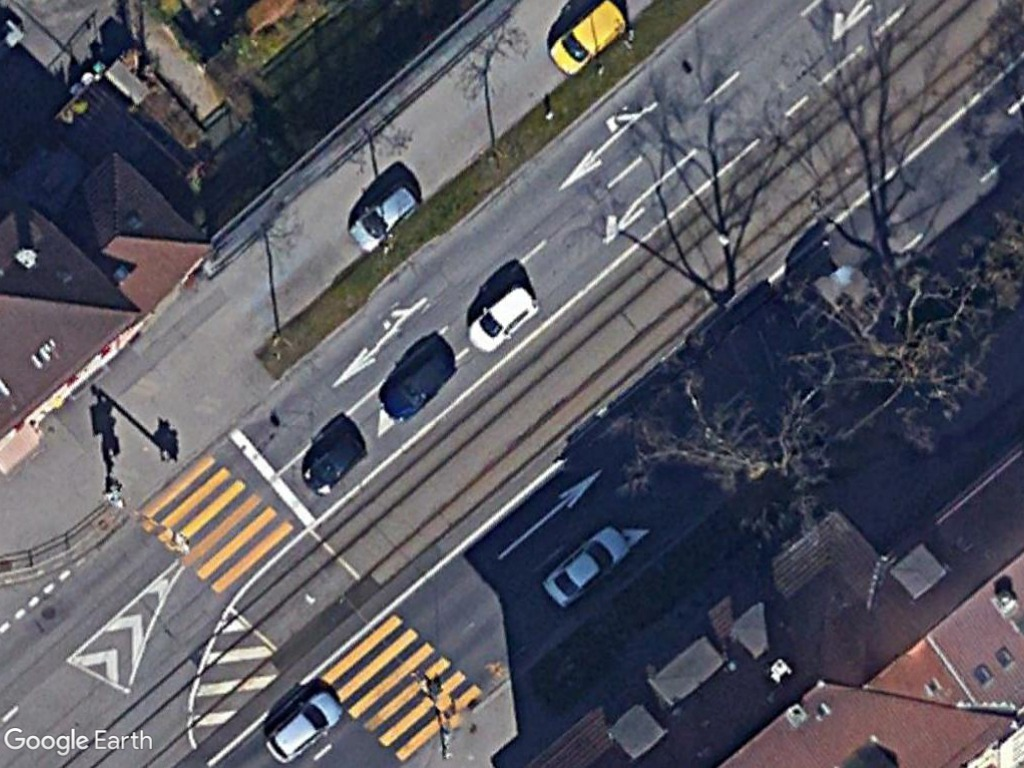car: (542, 522, 635, 610), (261, 688, 349, 764), (346, 178, 425, 258), (381, 348, 458, 424), (464, 283, 542, 356)
van: (544, 0, 633, 75)
